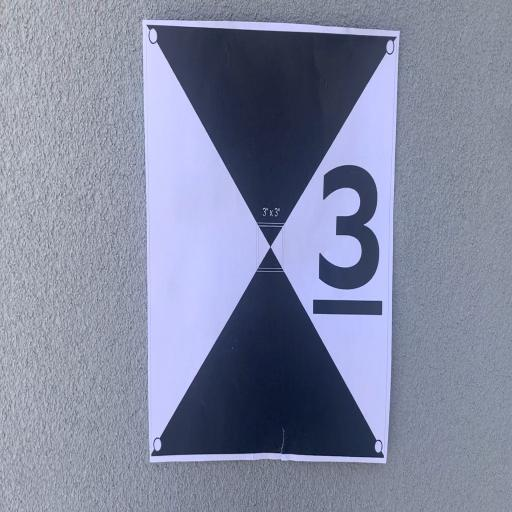target3: (140, 17, 400, 469)
